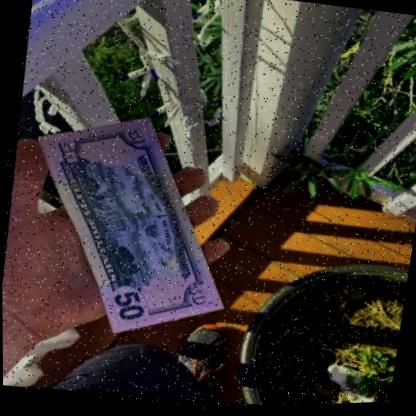fifty-back: (35, 119, 221, 335)
